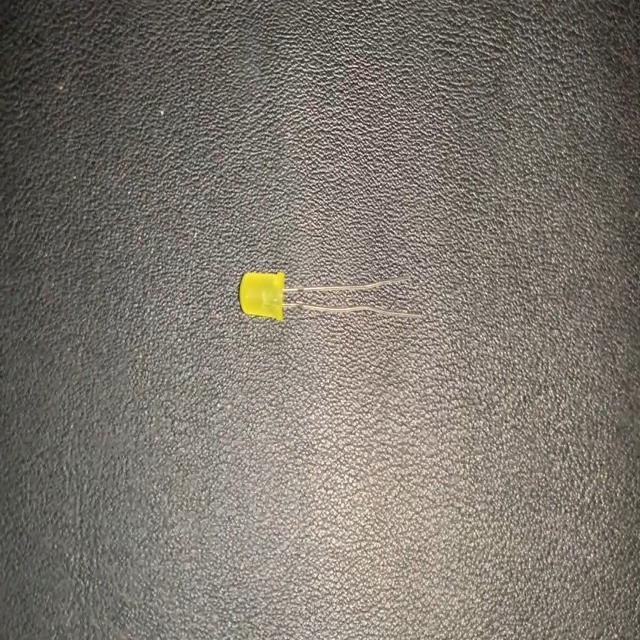LED: (238, 264, 426, 324)
